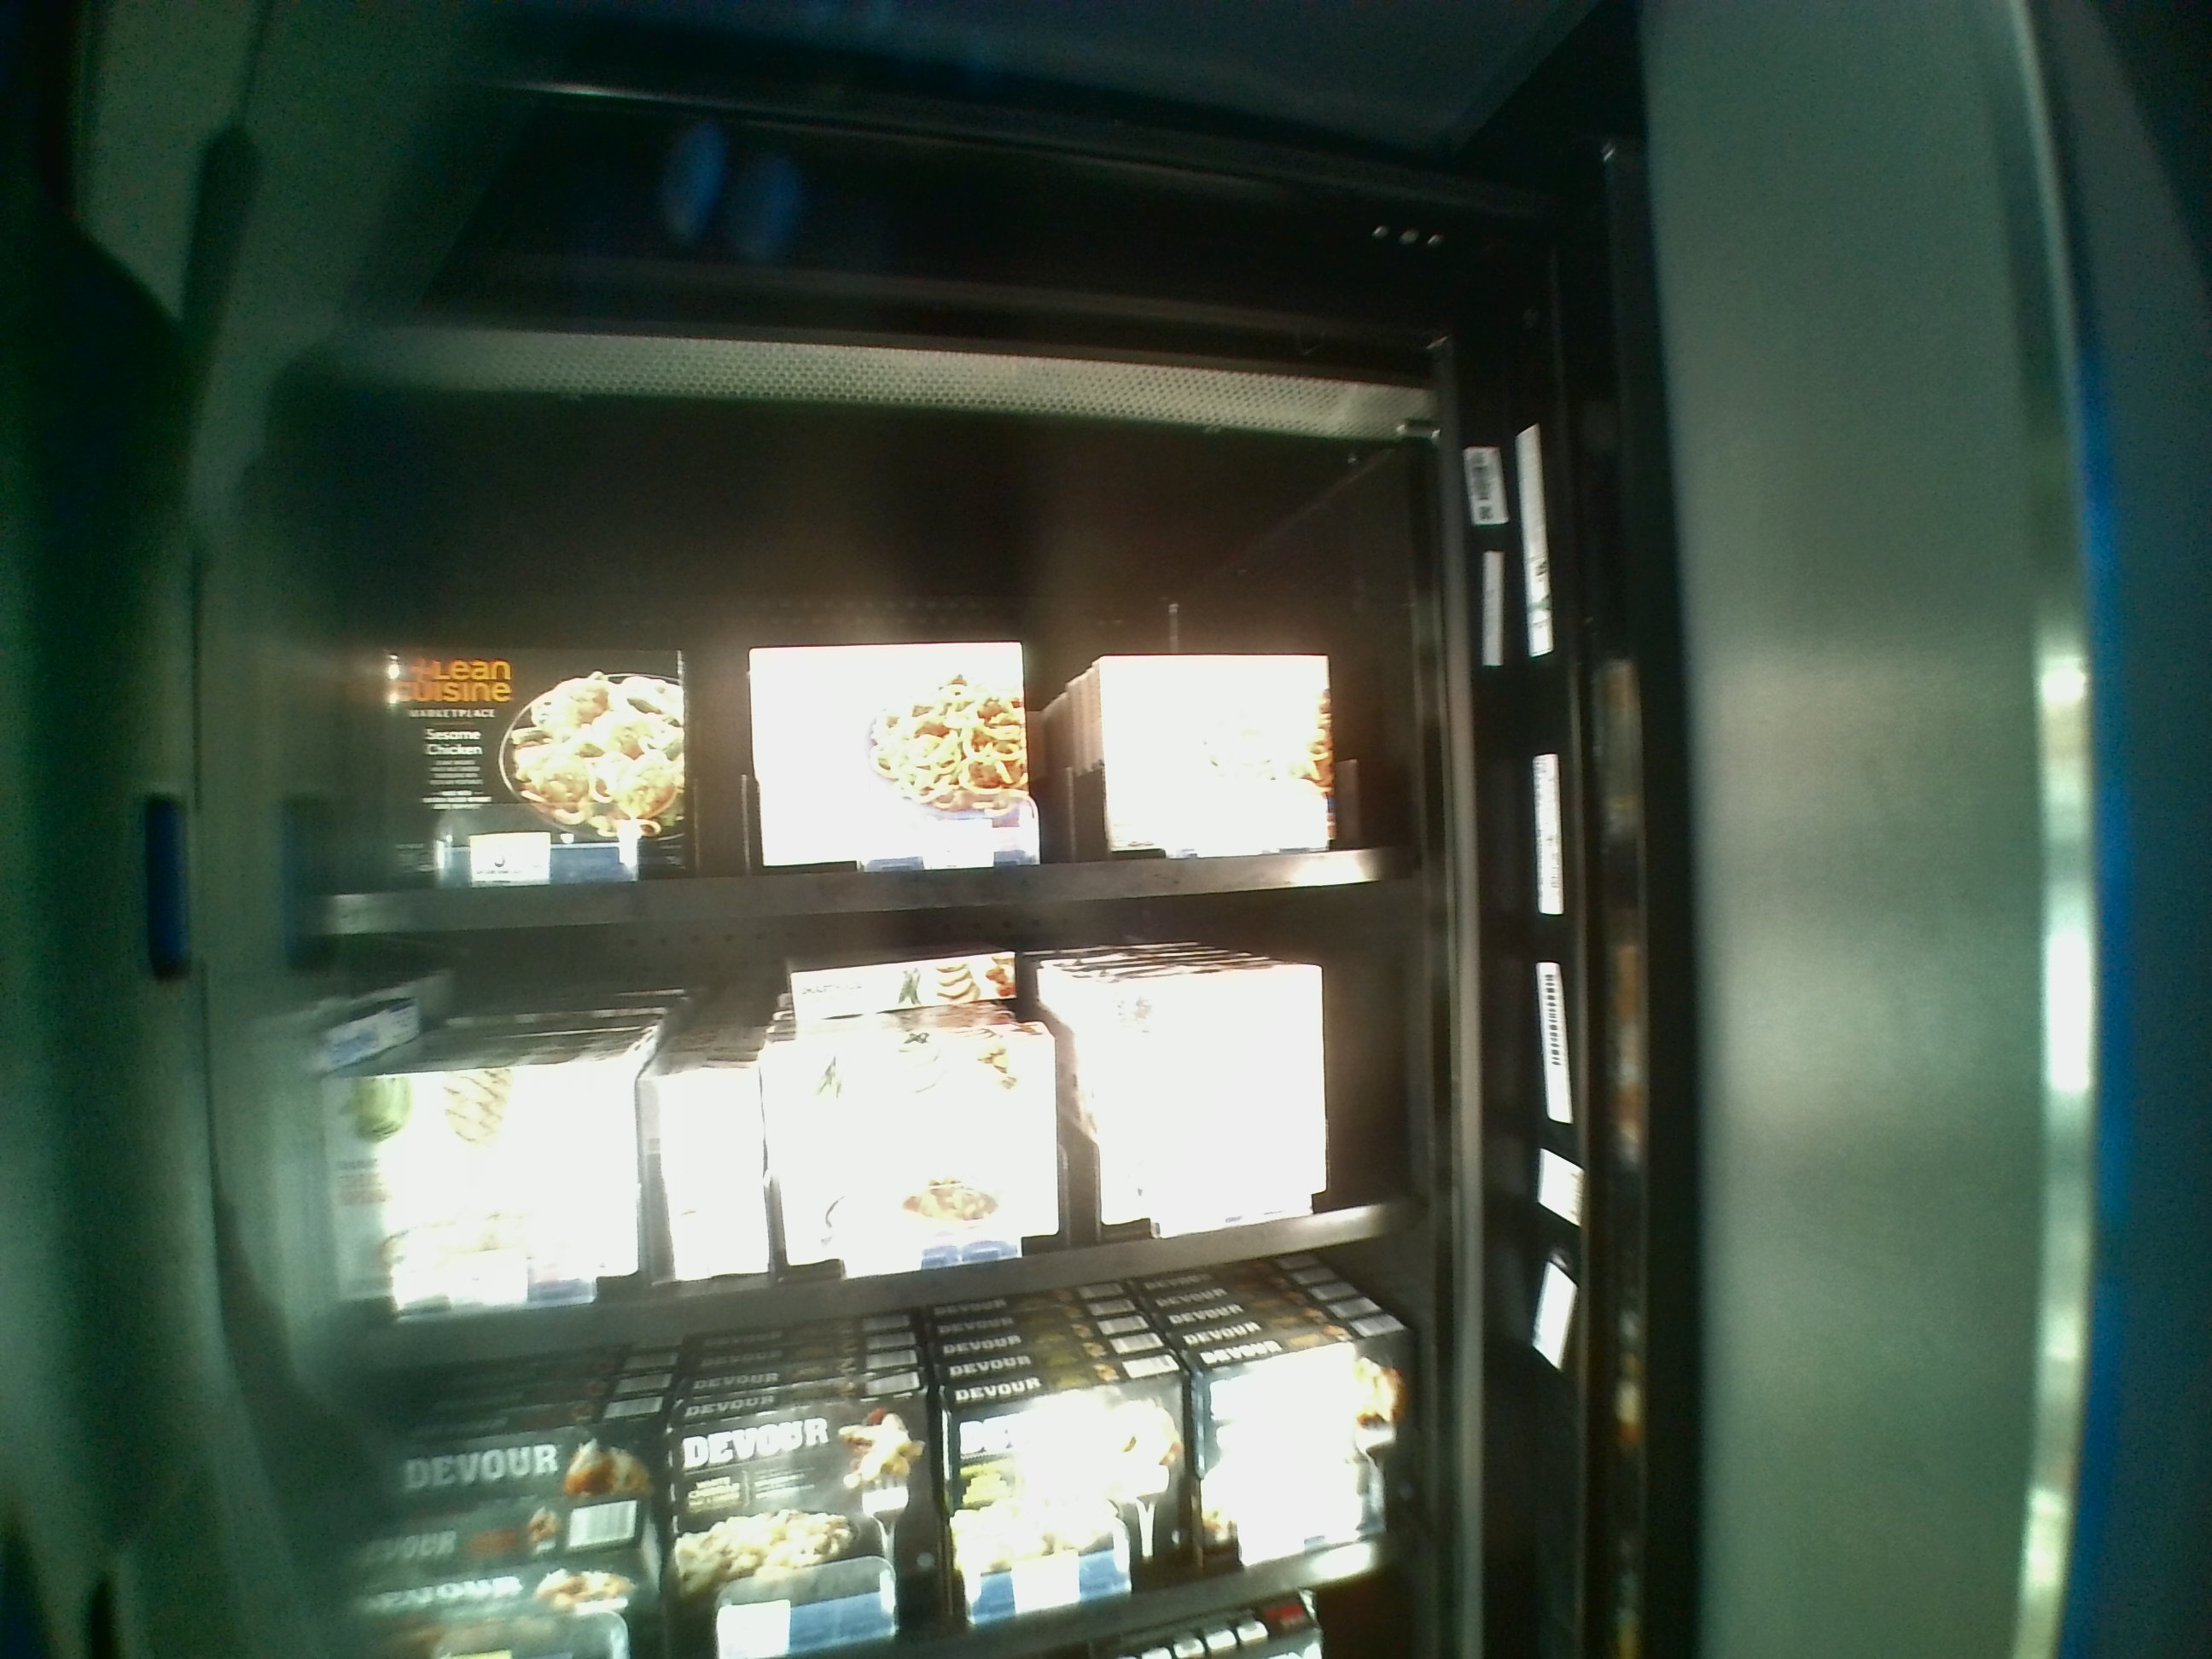shelf: (303, 472, 1400, 927), (308, 948, 1407, 1382)
